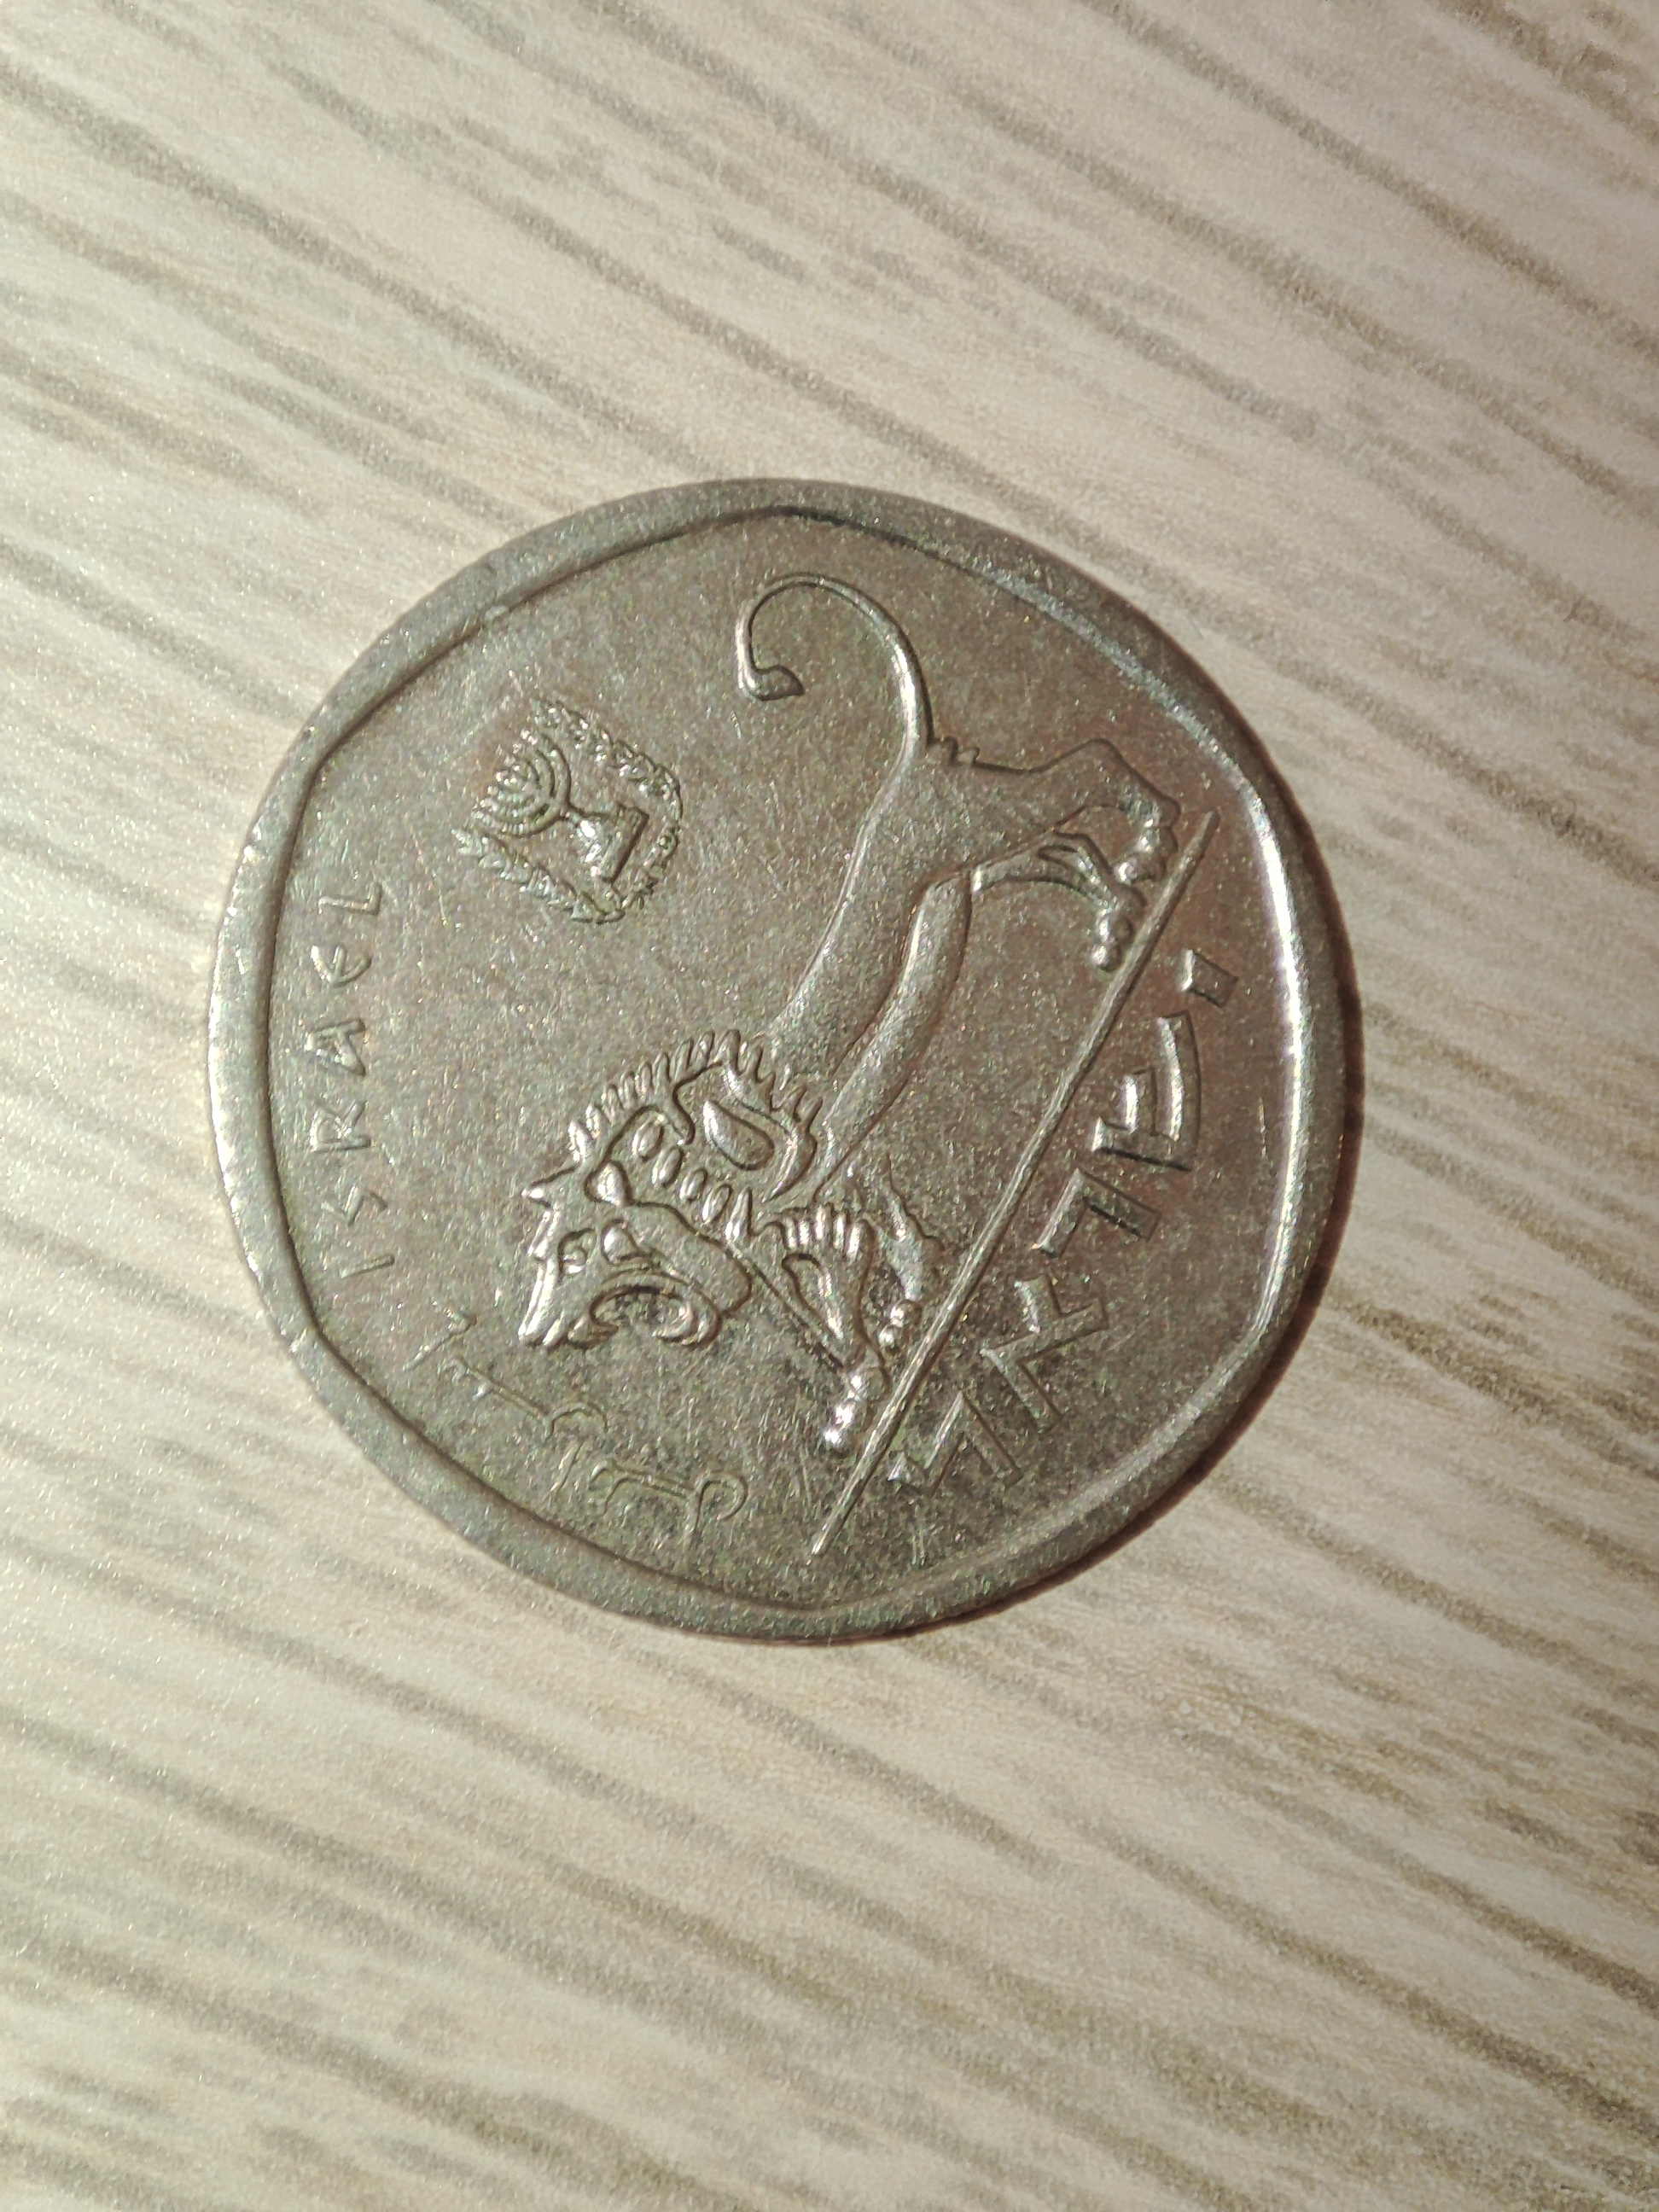1/2 old sheqel: (199, 470, 1375, 1651)
